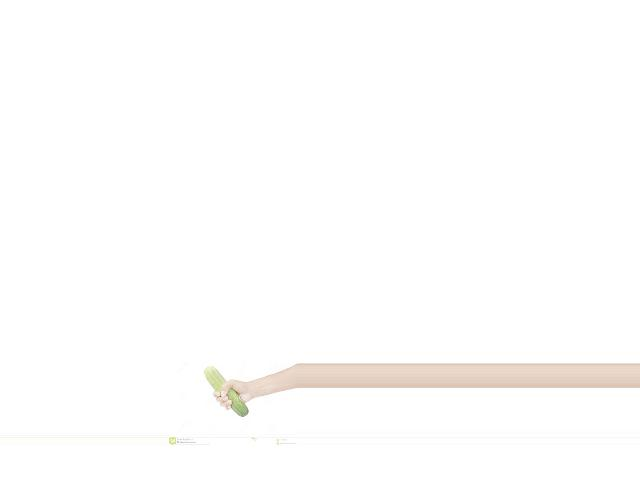cucumber: (204, 366, 250, 417)
